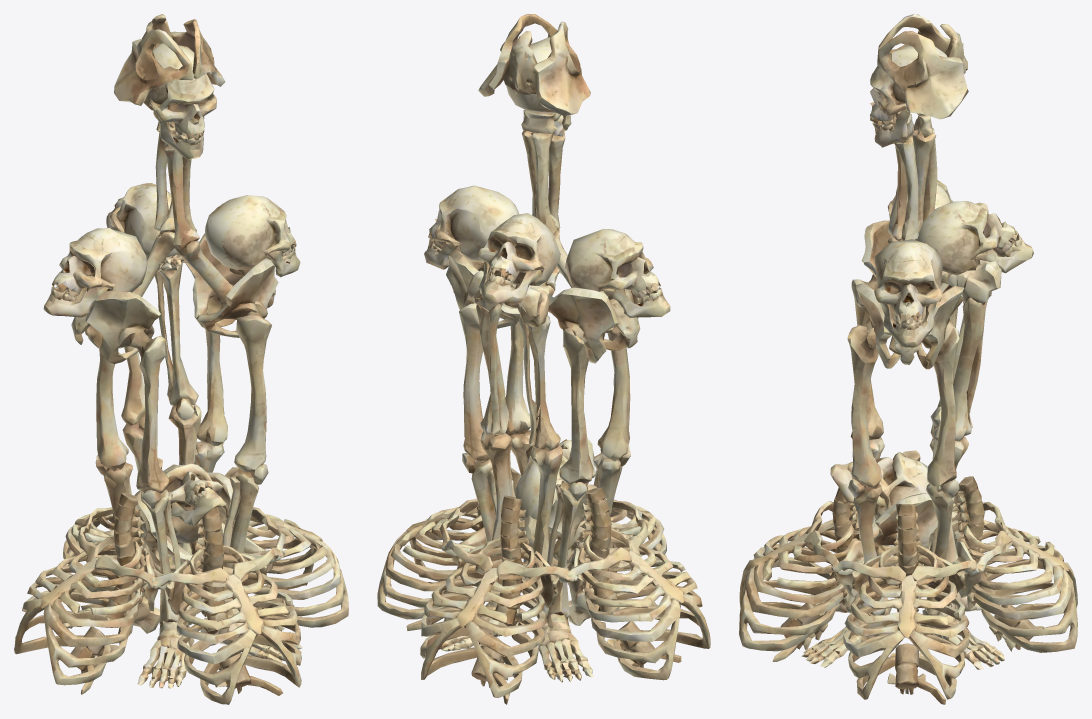
3 views of the same model, side by side, from view 1: azimuth 30°, elevation 25°; view 2: azimuth 150°, elevation 25°; view 3: azimuth 270°, elevation 25° (orthographic).
Visible parts, largest first — view 1: SM_Skeleton_Effigy_02_v1_LOD0; view 2: SM_Skeleton_Effigy_02_v1_LOD0; view 3: SM_Skeleton_Effigy_02_v1_LOD0.
Part boxes in pixels (x1,y1,x2,y2): SM_Skeleton_Effigy_02_v1_LOD0: (14,14,348,704); SM_Skeleton_Effigy_02_v1_LOD0: (377,14,710,704); SM_Skeleton_Effigy_02_v1_LOD0: (739,14,1077,704).
Bounding box in the file's own units: 0.9063 × 1.85 × 0.9069.
1 material, 1 textured.
